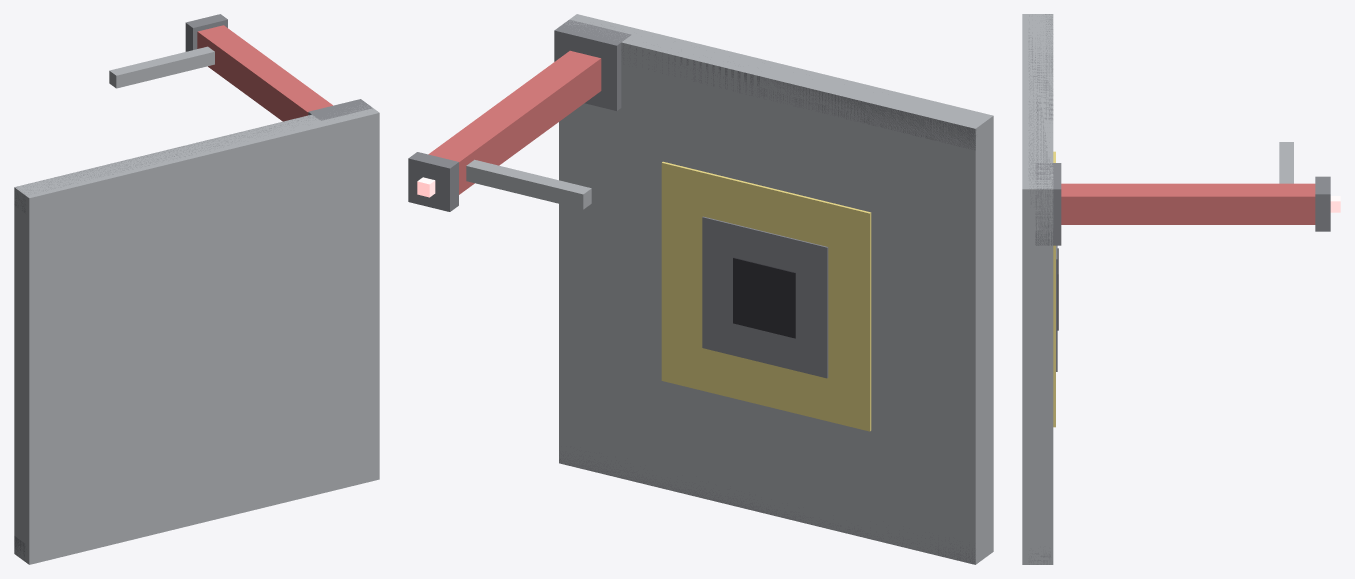
File: launch_pad.glb
3 views of the same model, side by side, from view 1: azimuth 30°, elevation 25°; view 2: azimuth 150°, elevation 25°; view 3: azimuth 270°, elevation 25° (orthographic). The views are drawn at different scales.
Visible parts, largest first — view 1: Pad, Tower, ArmT, EdgeN, TowerTop, TowerBase; view 2: Pad, Paint, Inner, Tower, Scorch, EdgeN, TowerBase, ArmT, TowerTop; view 3: Pad, Tower, EdgeN, TowerBase, TowerTop, ArmT, Paint.
Part boxes in pixels (x1,y1,x2,y2): Pad: (14,103,379,564); Tower: (197,25,332,121); ArmT: (109,46,214,88); EdgeN: (14,102,372,213); TowerTop: (185,14,227,51); TowerBase: (308,99,372,120); Pad: (559,14,993,564); Paint: (661,161,871,431); Inner: (702,216,828,378); Tower: (428,50,601,194); Scorch: (733,257,795,338); EdgeN: (592,24,976,150); TowerBase: (554,20,631,110); ArmT: (466,159,591,209); TowerTop: (408,152,458,211); Pad: (1022,14,1053,564); Tower: (1061,183,1315,224); EdgeN: (1028,14,1053,206); TowerBase: (1035,163,1061,245); TowerTop: (1315,176,1330,231); ArmT: (1279,142,1293,183); Paint: (1053,151,1055,427).
Size of the model in its own units: 4 by 4 by 3.07.
